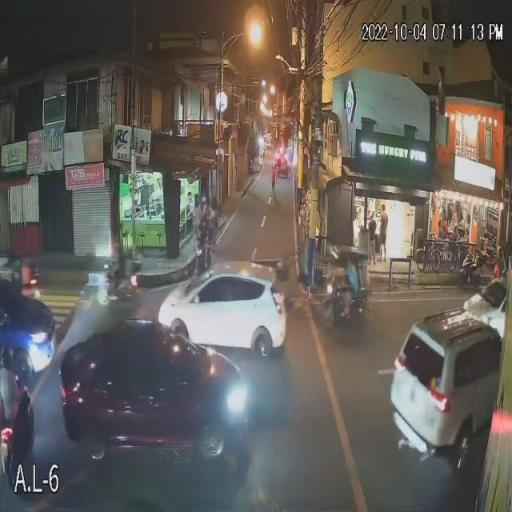helmet: (104, 236, 136, 257)
motorcycle: (87, 270, 147, 306)
rider: (102, 257, 137, 296)
